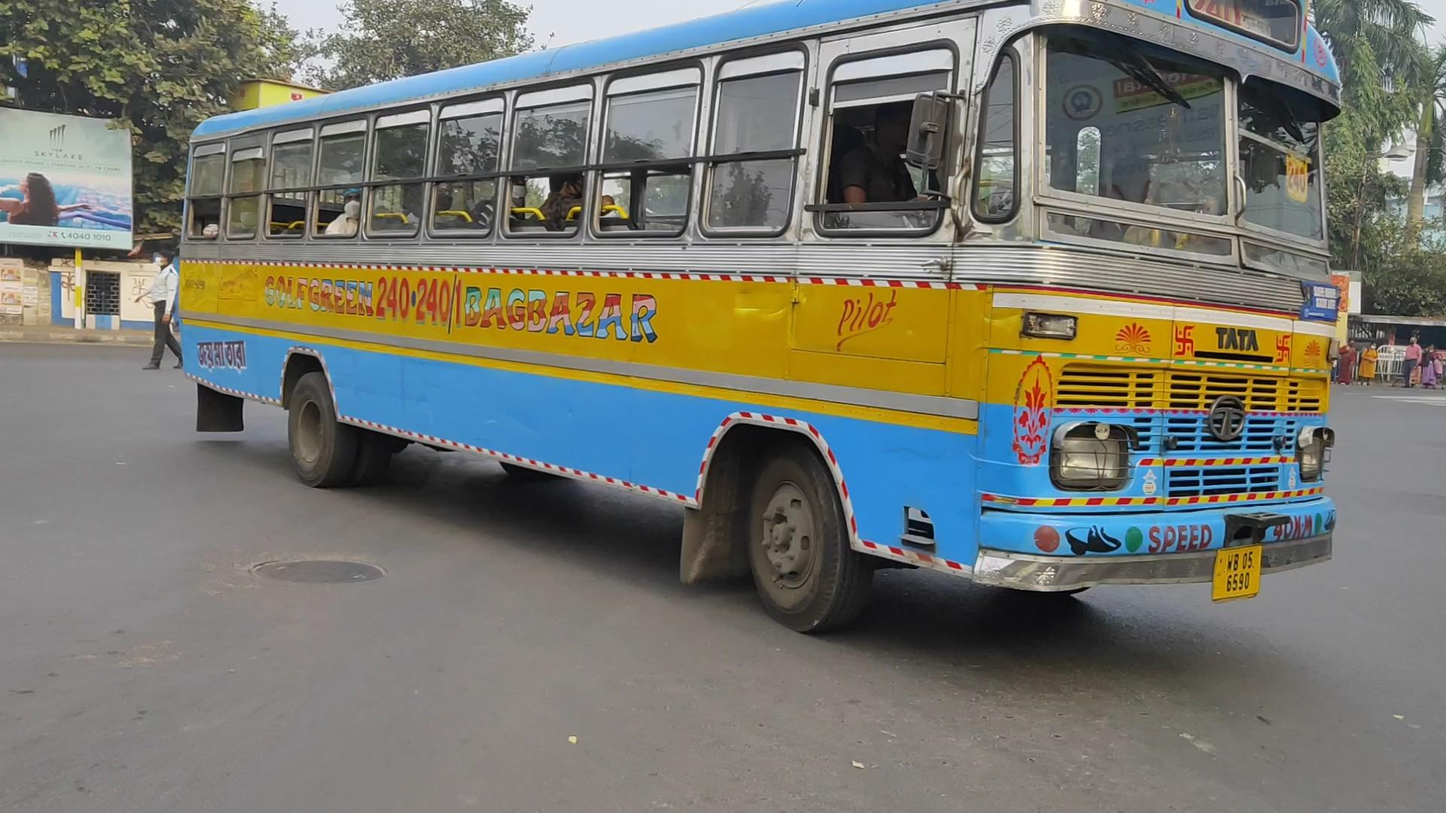Bus: (176, 3, 1344, 635)
